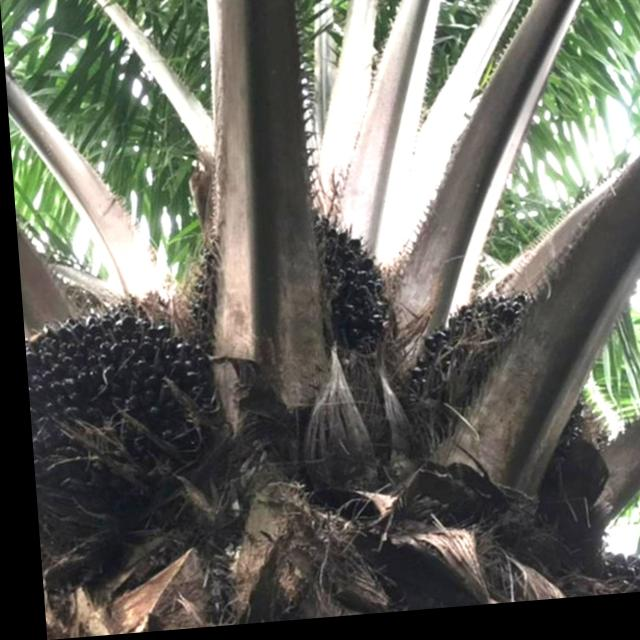unripe: (18, 292, 212, 556), (182, 190, 386, 366), (399, 297, 558, 469)
